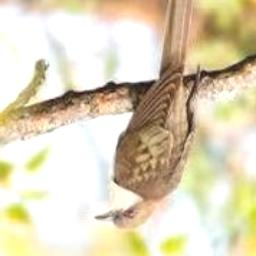Cuckoo: (93, 0, 198, 231)
